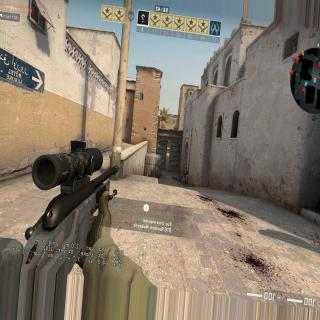T-Body: (181, 166, 187, 184)
T-Head: (185, 166, 187, 170)
